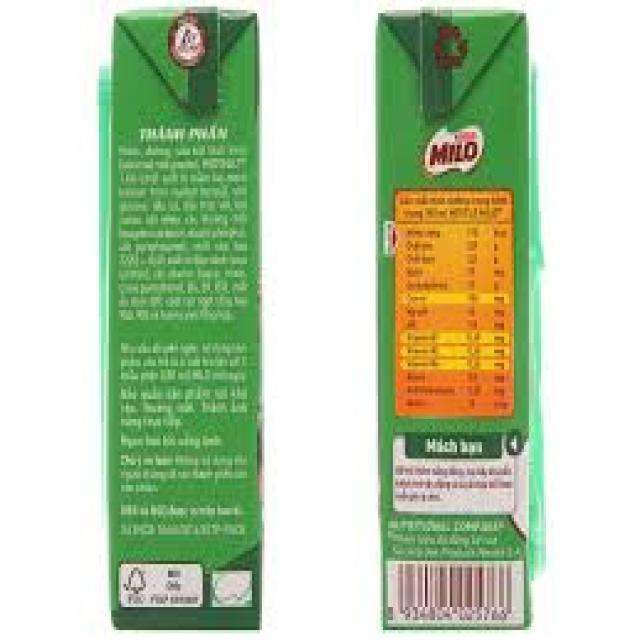sua milo: (368, 3, 549, 635), (100, 9, 273, 637)
